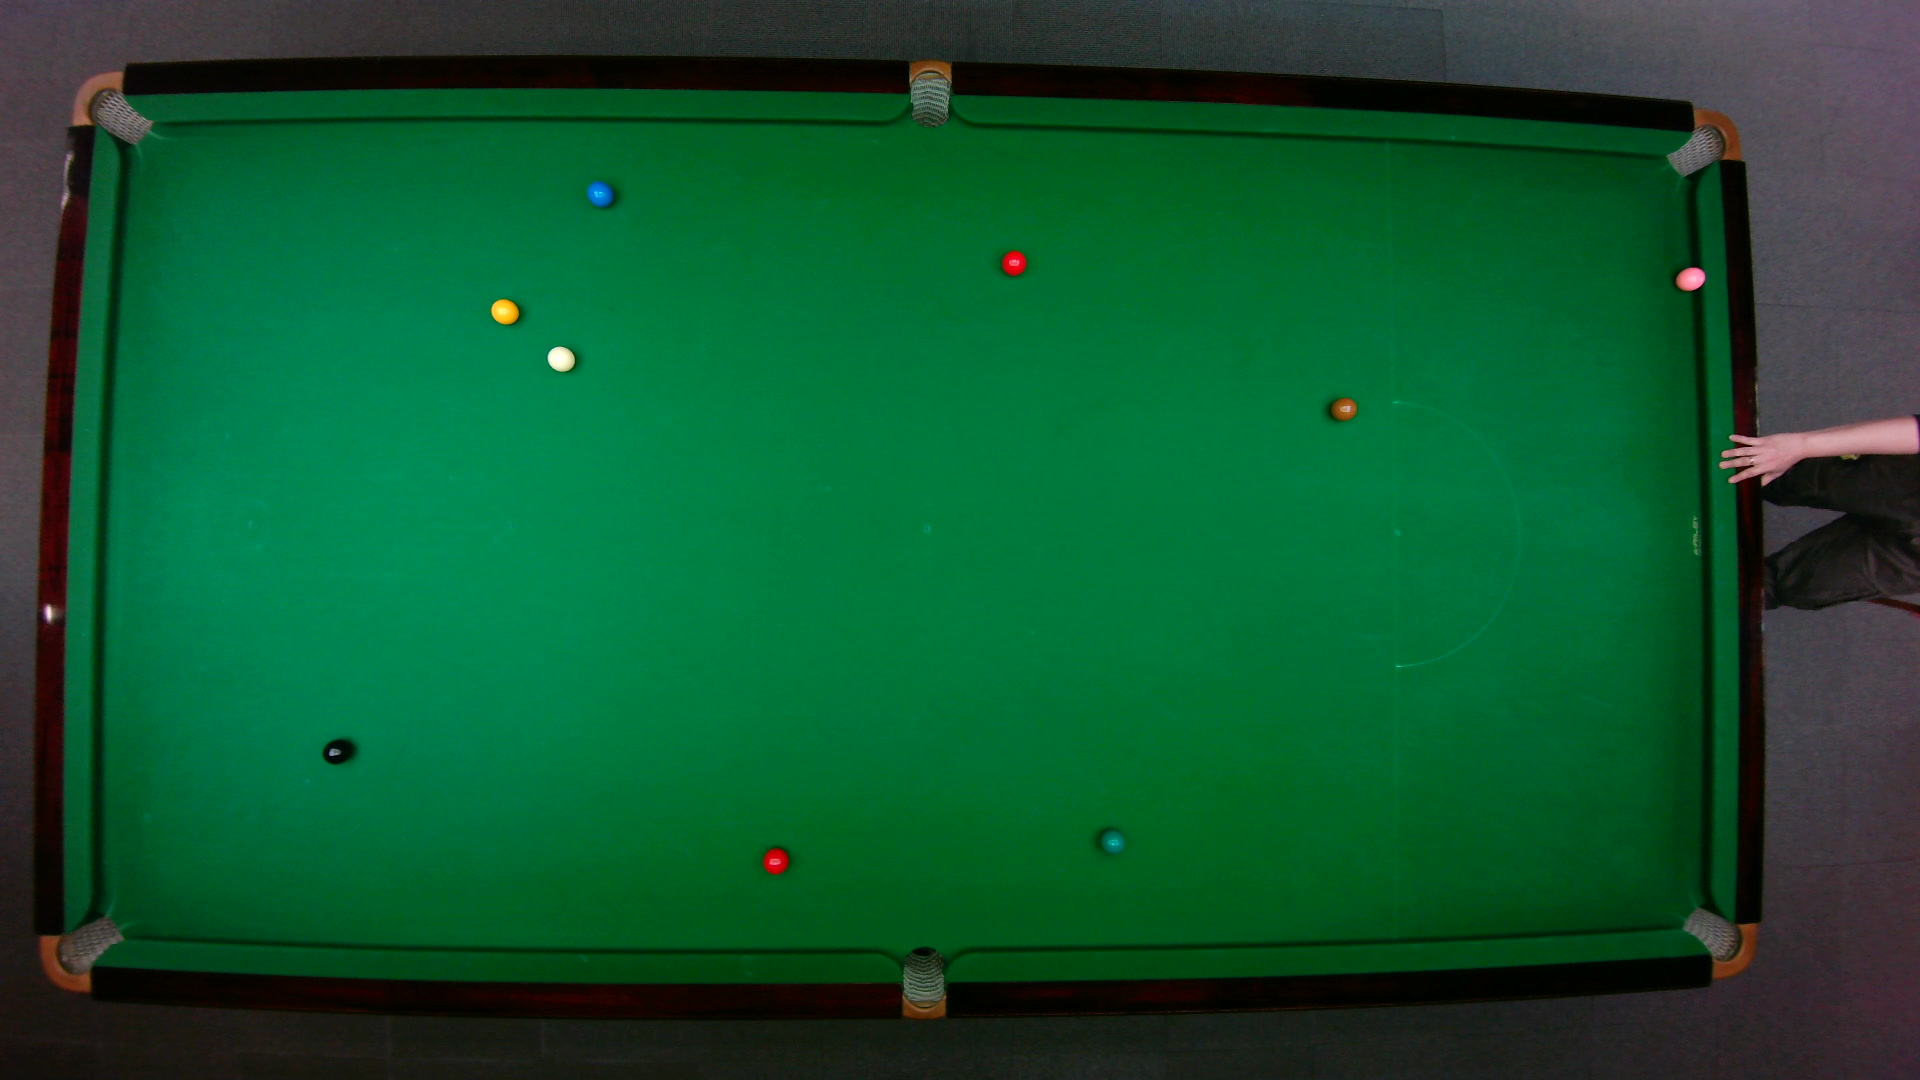bag: (38, 913, 125, 993), (69, 69, 152, 145), (1677, 905, 1756, 978), (1663, 107, 1742, 177), (901, 943, 945, 1021), (909, 57, 949, 128)
black: (320, 736, 352, 765)
blue: (585, 179, 615, 207)
brown: (1328, 396, 1358, 421)
green: (1097, 827, 1126, 855)
pink: (1673, 264, 1706, 291)
red: (1000, 247, 1029, 277), (760, 845, 789, 876)
white: (545, 344, 576, 373)
yellow: (487, 295, 520, 324)
zone: (1391, 400, 1520, 669)
